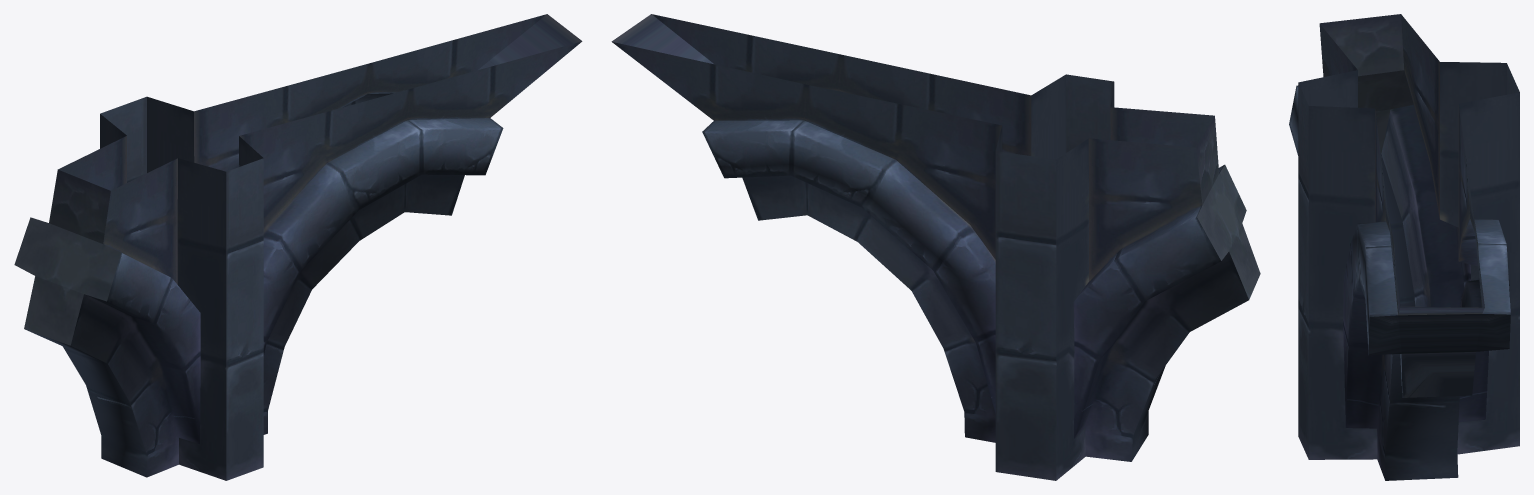
File: Juesexuanze_zhuzi03.FBX
3 views of the same model, side by side, from view 1: azimuth 30°, elevation 25°; view 2: azimuth 150°, elevation 25°; view 3: azimuth 270°, elevation 25° (orthographic). The views are drawn at different scales.
Visible parts, largest first — view 1: Juesexuanze_zhuzi03; view 2: Juesexuanze_zhuzi03; view 3: Juesexuanze_zhuzi03.
Boxes of the visible parts, x1,y1,x2,y2 form: Juesexuanze_zhuzi03: (14, 14, 582, 480); Juesexuanze_zhuzi03: (611, 14, 1260, 480); Juesexuanze_zhuzi03: (1289, 14, 1519, 480).
Bounding box in the file's own units: 98.43 × 30.25 × 51.17.
